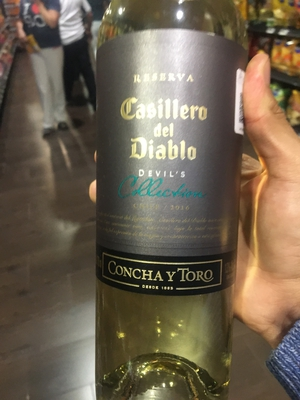casillero del diablo devils collection verde: (86, 12, 249, 400)
